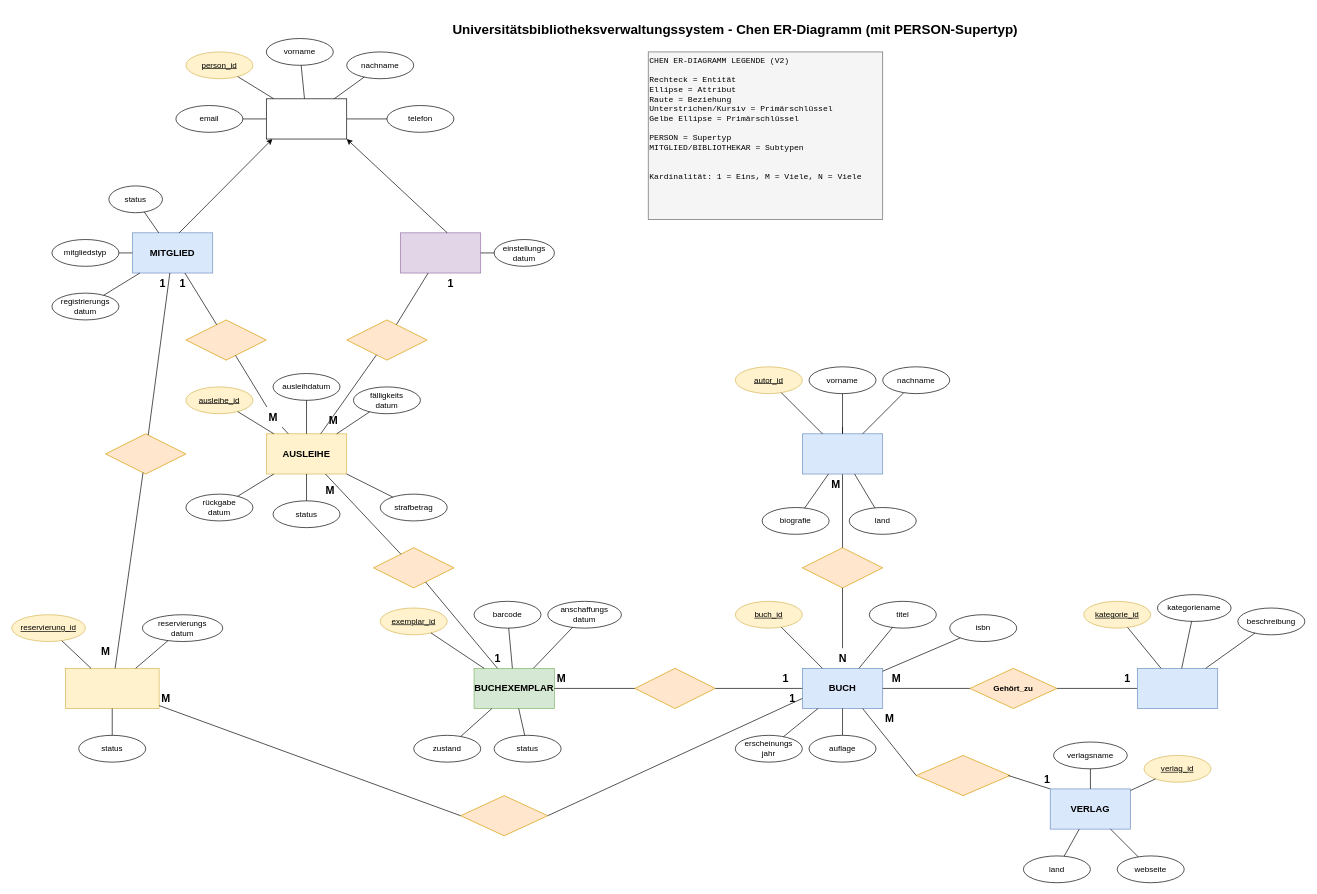
Image size: 1317x894. Some labels were removed from this diagram. Each missing label, with the centre of its shape:
AUTOR: point (842, 453)
Bearbeitet: point (386, 339)
BIBLIOTHEKAR: point (440, 252)
Hat_Exemplar: point (674, 688)
KATEGORIE: point (1177, 688)
Leiht_aus: point (225, 339)
PERSON: point (306, 118)
Reserviert: point (145, 453)
RESERVIERUNG: point (112, 688)
Schreibt: point (842, 567)
Veröffentlicht_von: point (963, 775)
Wird_ausgeliehen: point (413, 567)
Wird_reserviert: point (504, 815)
